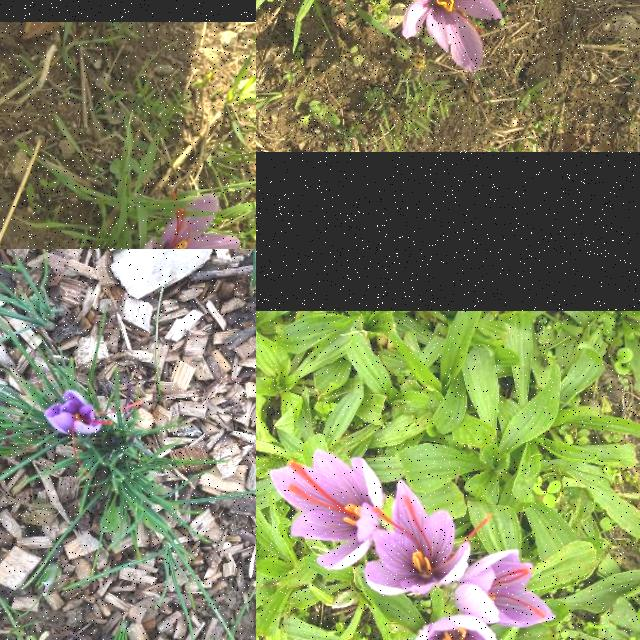flower: (364, 479, 494, 597), (270, 448, 384, 572), (452, 548, 556, 630), (44, 392, 144, 468), (401, 0, 502, 73), (142, 191, 240, 249), (408, 613, 510, 640)
